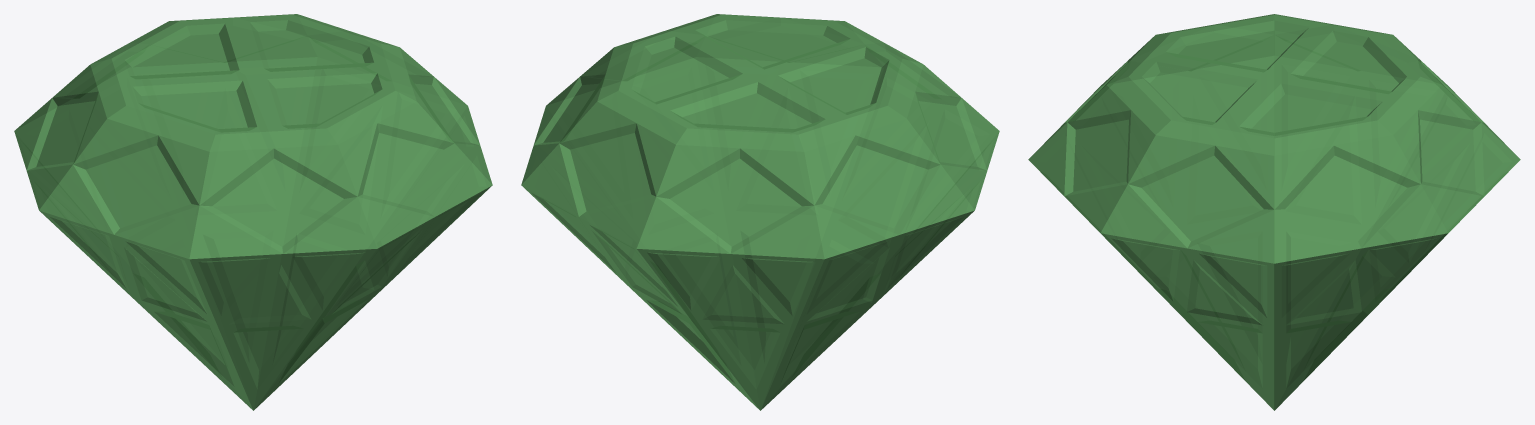
The model's file is Mld_Emerald.fbx.
The picture shows the model from 3 angles, left to right: view 1: azimuth 30°, elevation 25°; view 2: azimuth 150°, elevation 25°; view 3: azimuth 270°, elevation 25°; orthographic projection.
Visible parts, largest first — view 1: Mdl_Emerald; view 2: Mdl_Emerald; view 3: Mdl_Emerald.
Part boxes in pixels (x1,y1,x2,y2): Mdl_Emerald: (14,14,492,410); Mdl_Emerald: (521,14,999,410); Mdl_Emerald: (1028,14,1520,410).
Bounding box in the file's own units: 1.36 × 1.02 × 1.36.
